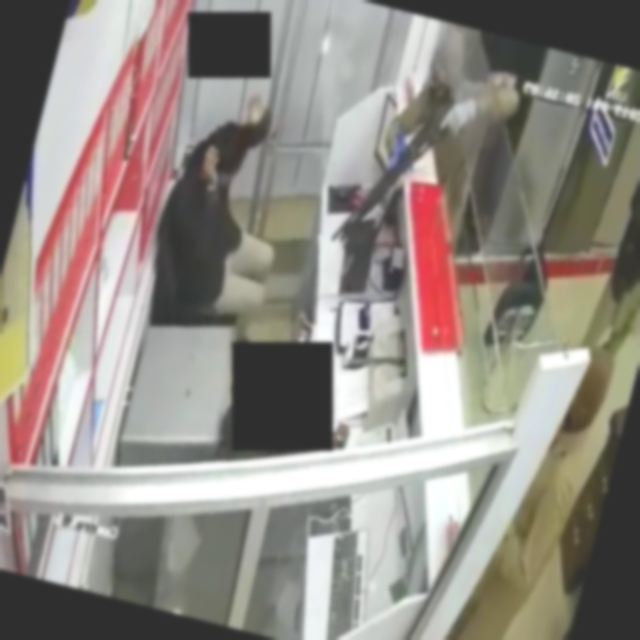gun: (329, 78, 456, 268)
